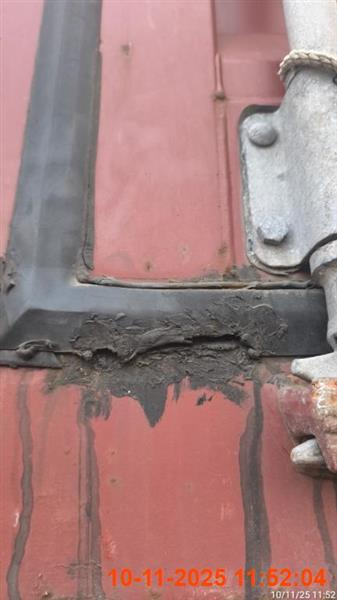hole: (1, 1, 336, 598)
